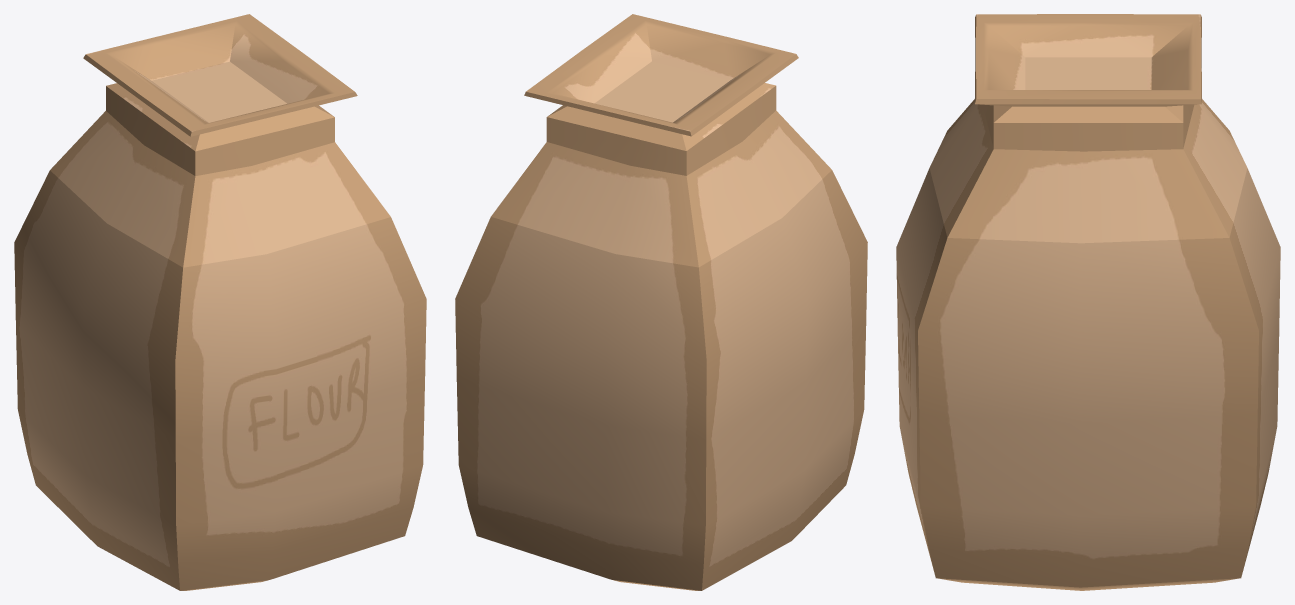
The model's file is FlourBag.fbx.
3 views of the same model, side by side, from view 1: azimuth 30°, elevation 25°; view 2: azimuth 150°, elevation 25°; view 3: azimuth 270°, elevation 25° (orthographic). The views are drawn at different scales.
Parts seen in each view (by area): view 1: pCube10; view 2: pCube10; view 3: pCube10.
Boxes of the visible parts, left/top/right/bottom form: pCube10: left=14, top=14, right=426, bottom=590; pCube10: left=455, top=14, right=867, bottom=590; pCube10: left=896, top=14, right=1280, bottom=590.
Bounding box in the file's own units: 5 × 7.65 × 5.55.
